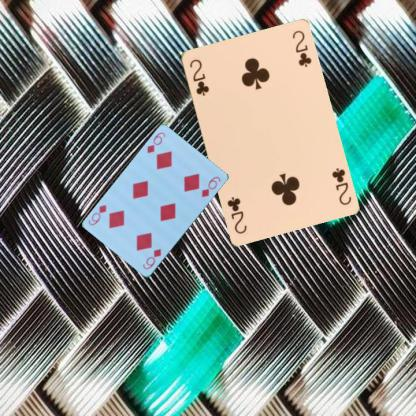2c: (187, 56, 210, 97), (329, 165, 352, 206)
6d: (140, 246, 162, 271), (144, 130, 166, 155)
